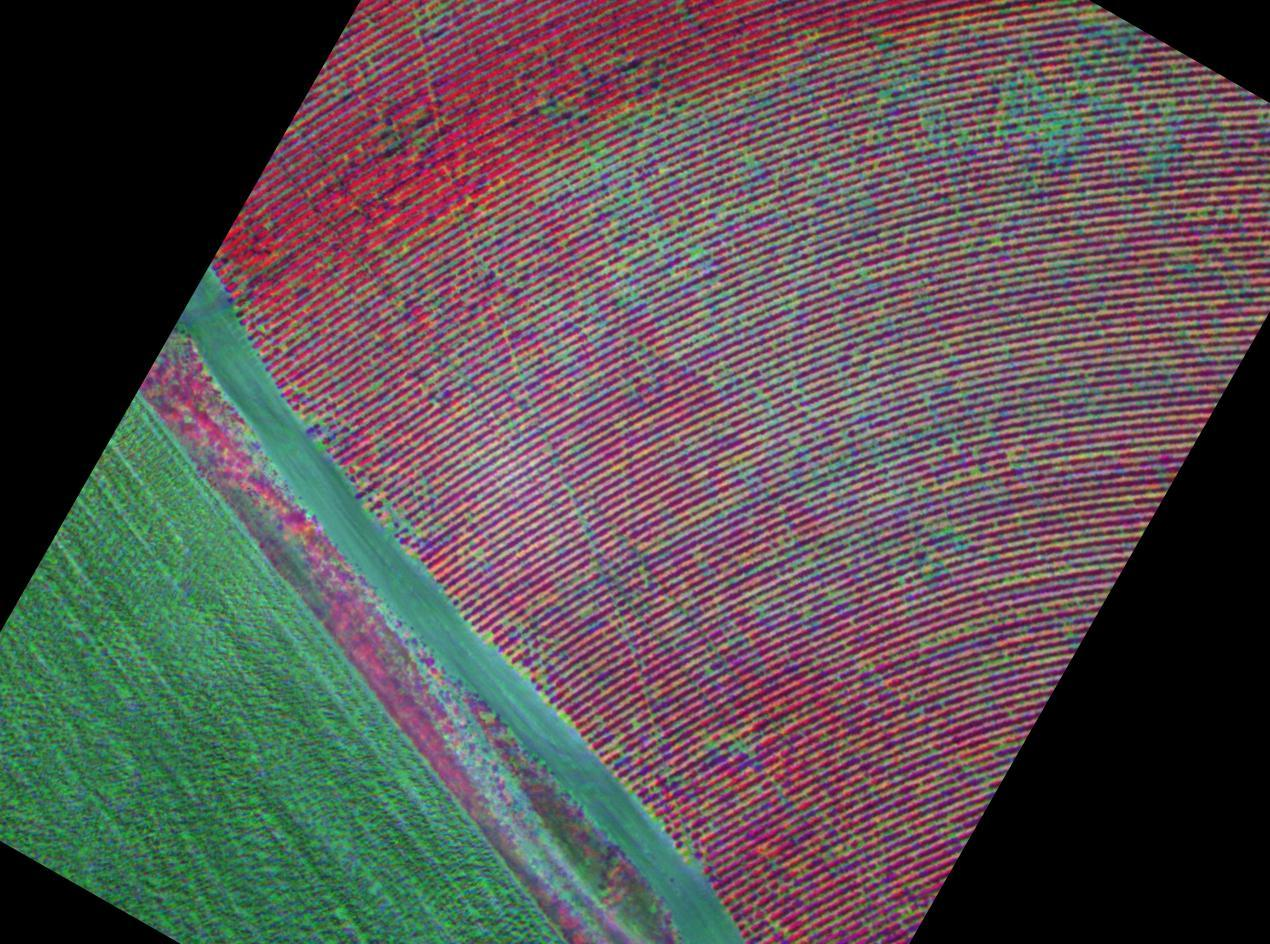dc: (1055, 125, 1059, 130), (994, 238, 998, 242), (725, 370, 729, 374), (922, 643, 925, 646)
